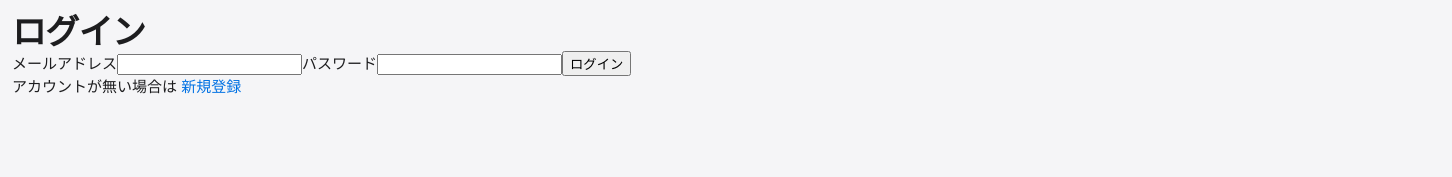
it: Login › ログイン失敗で汎用エラーを表示する
Type "bob@example.com" into the field labelled "メールアドレス" at (210, 65), box [117,54,302,75]
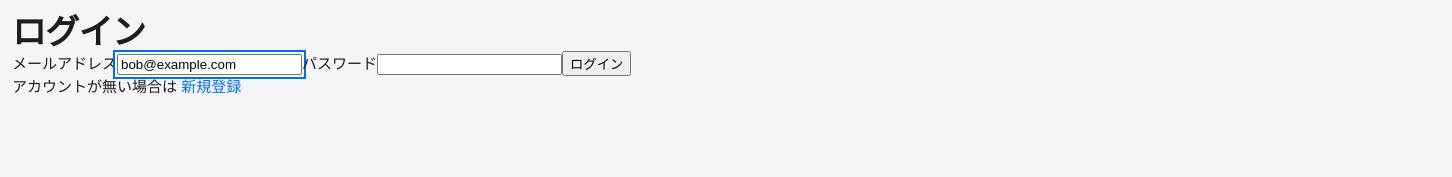
Type "wrong123!" into the password field labelled "パスワード" at (470, 65), box [377,54,562,75]
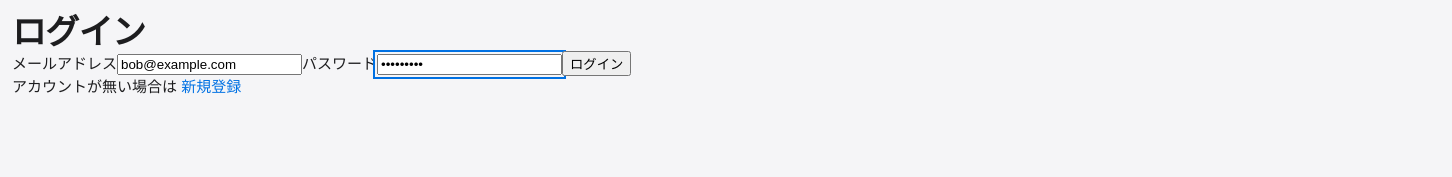
Click the button "ログイン" at (597, 64), box [562,51,631,76]
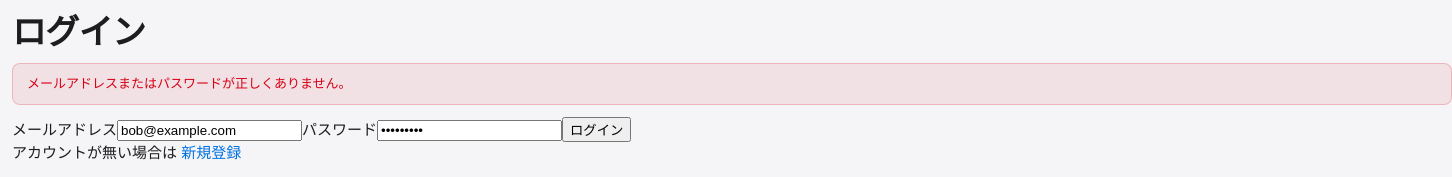
Now the message reads "メールアドレスまたはパスワードが正しくありません。", box [27,75,352,91]
